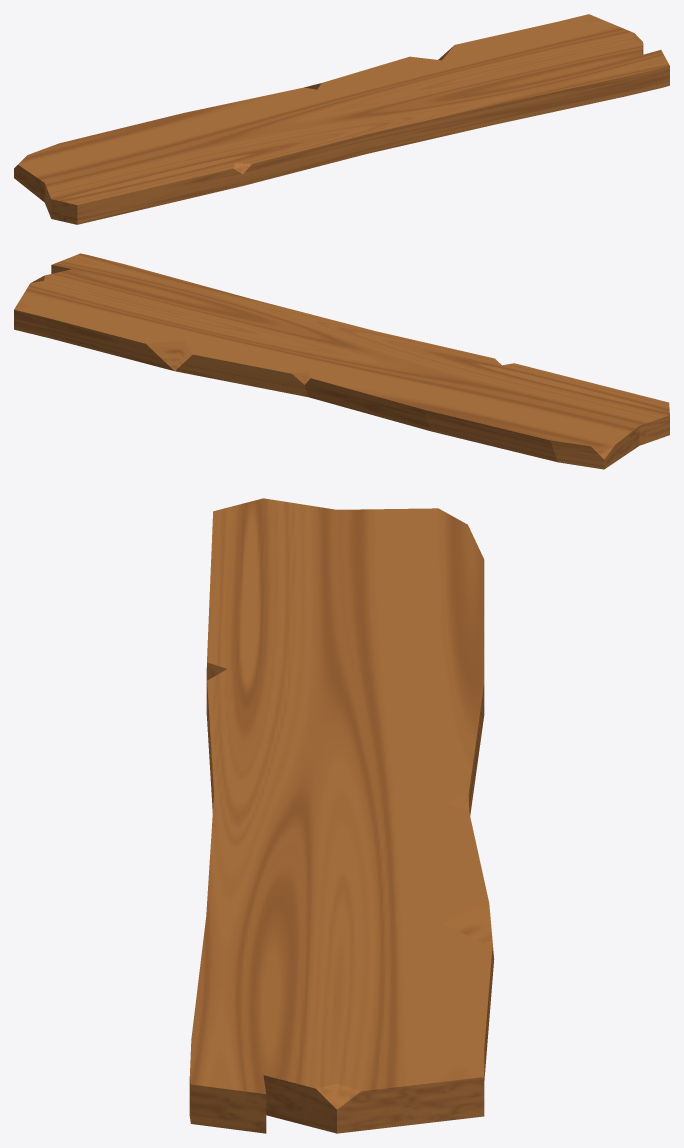
File: model_tabuamedia_01.fbx
3 views of the same model, one above another, from view 1: azimuth 30°, elevation 25°; view 2: azimuth 150°, elevation 25°; view 3: azimuth 270°, elevation 25° (orthographic). The views are drawn at different scales.
Visible parts, largest first — view 1: tabua media; view 2: tabua media; view 3: tabua media.
Part boxes in pixels (left/top/right/bottom): tabua media: left=14, top=14, right=669, bottom=224; tabua media: left=14, top=253, right=669, bottom=469; tabua media: left=189, top=498, right=494, bottom=1133.
Bounding box in the file's own units: 9.57 × 0.2955 × 2.07.
Materials: 1 (1 with a texture image).
